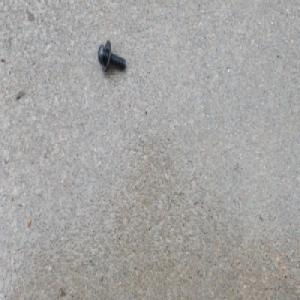BoltWasher: (96, 39, 126, 74)
